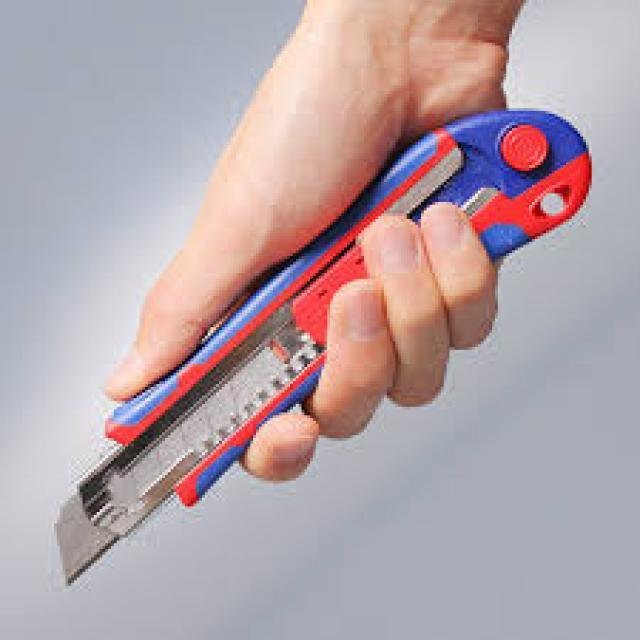cutter: (29, 93, 609, 603)
